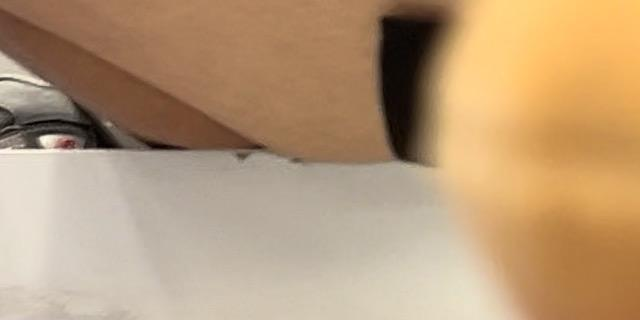burger: (392, 0, 640, 320)
